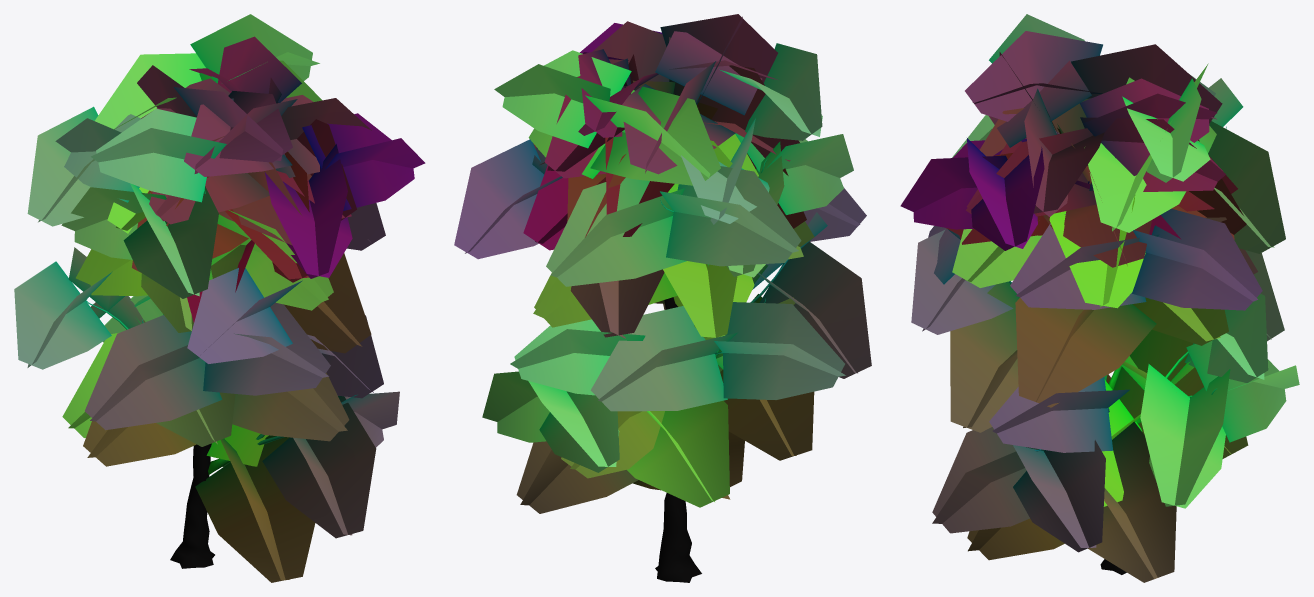
Rendered from M_Realistic7_11.fbx.
3 views of the same model, side by side, from view 1: azimuth 30°, elevation 25°; view 2: azimuth 150°, elevation 25°; view 3: azimuth 270°, elevation 25° (orthographic). The views are drawn at different scales.
Parts seen in each view (by area): view 1: Tree_11; view 2: Tree_11; view 3: Tree_11.
Boxes of the visible parts, <box> form: Tree_11: <box>14,14,425,582</box>; Tree_11: <box>454,14,871,582</box>; Tree_11: <box>900,14,1299,582</box>.
Bounding box in the file's own units: 988 × 1358 × 936.
